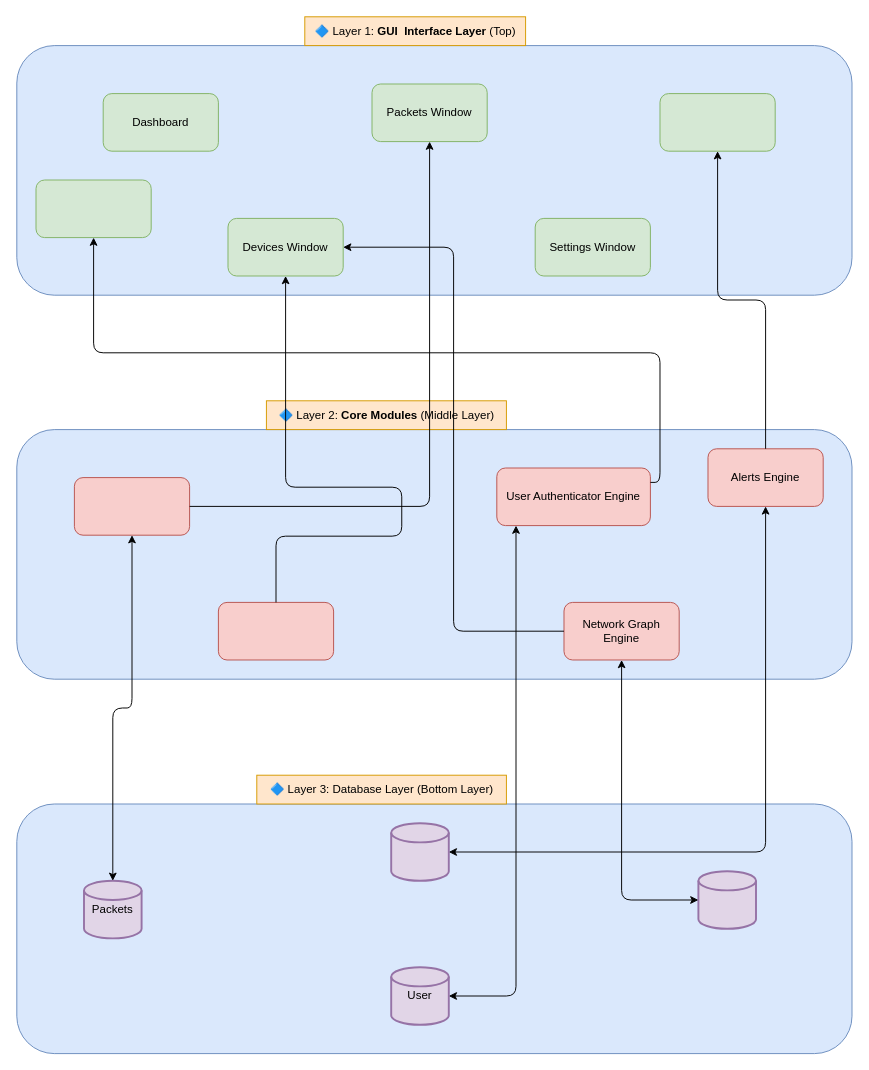
Some shapes in this 869 by 1070 pixel diagram are drawn without their labels. Each missing label, with the centre of its shape:
Alerts: [419,851]
Alerts Window: [717,122]
Device Scanner Engine: [275,630]
Devices: [726,899]
Login Window: [93,208]
Packet Capture Engine: [131,506]
